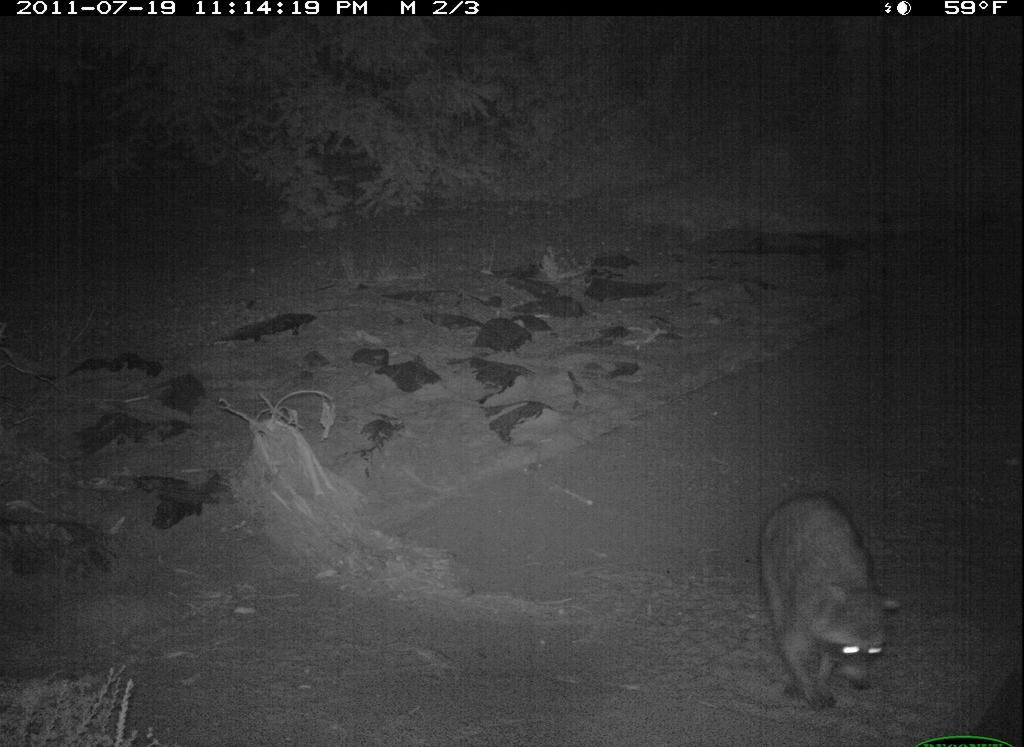raccoon: (738, 465, 905, 710)
